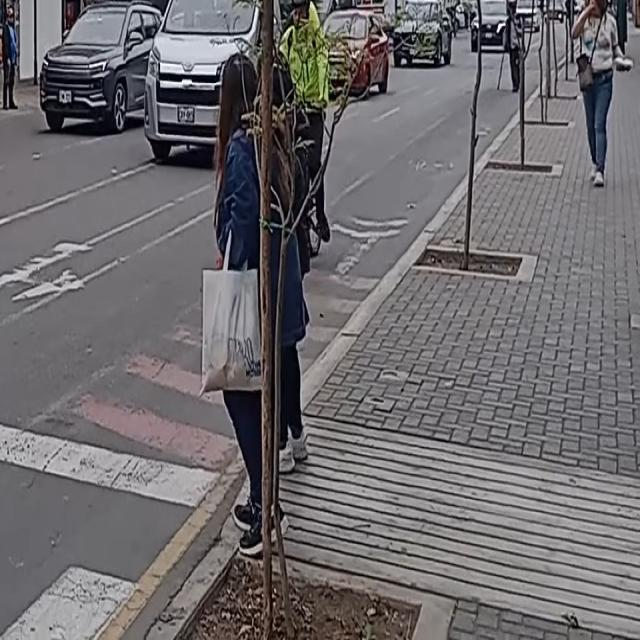car: (142, 0, 314, 152), (39, 2, 162, 128), (317, 8, 390, 100), (392, 0, 454, 70), (469, 0, 512, 51), (514, 0, 540, 28)
